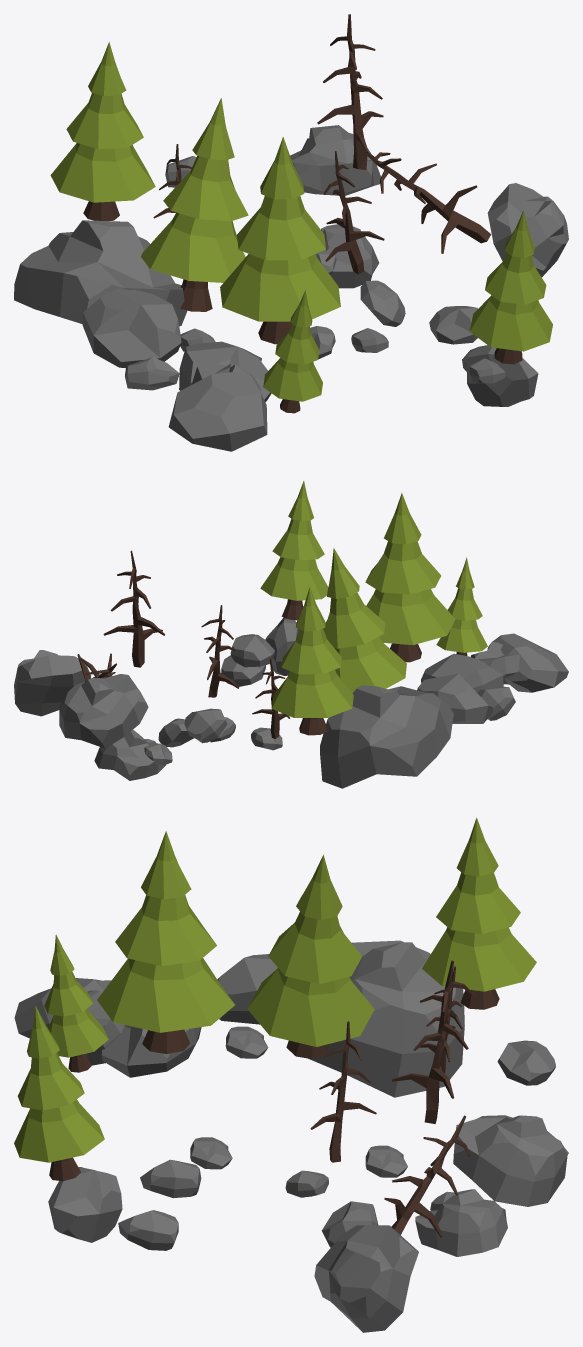
File: castleGrounds2.glb
3 views of the same model, one above another, from view 1: azimuth 30°, elevation 25°; view 2: azimuth 150°, elevation 25°; view 3: azimuth 270°, elevation 25° (orthographic). The views are drawn at different scales.
Visible parts, largest first — view 1: Tree.002, Tree.001, Rock.042, Tree.004, Tree.010, Rock.059, Rock.020, Rock.044, Rock.058, Tree.003, Rock.050, Dead Tree.011 (+11 smaller); view 2: Rock.042, Tree.002, Tree.004, Tree.001, Rock.058, Tree.010, Rock.044, Rock.059, Tree.003, Rock.020, Rock.045, Rock.056 (+13 smaller); view 3: Tree.002, Tree.001, Rock.042, Tree.004, Rock.058, Tree.010, Rock.044, Tree.003, Rock.045, Rock.050, Rock.056, Dead Tree.008 (+14 smaller).
Boxes of the visible parts, x1=… form: Tree.002: x1=220, y1=137, x2=340, y2=344; Tree.001: x1=141, y1=98, x2=248, y2=311; Rock.042: x1=14, y1=220, x2=187, y2=326; Tree.004: x1=50, y1=42, x2=155, y2=220; Tree.010: x1=470, y1=210, x2=552, y2=364; Rock.059: x1=168, y1=371, x2=267, y2=451; Rock.020: x1=82, y1=289, x2=181, y2=367; Rock.044: x1=487, y1=183, x2=568, y2=277; Rock.058: x1=290, y1=125, x2=380, y2=195; Tree.003: x1=263, y1=290, x2=322, y2=413; Rock.050: x1=467, y1=345, x2=538, y2=406; Dead Tree.011: x1=367, y1=152, x2=490, y2=253; Rock.042: x1=320, y1=685, x2=453, y2=788; Tree.002: x1=365, y1=493, x2=455, y2=662; Tree.004: x1=272, y1=587, x2=353, y2=735; Tree.001: x1=323, y1=548, x2=406, y2=693; Rock.058: x1=59, y1=674, x2=148, y2=748; Tree.010: x1=260, y1=481, x2=328, y2=620; Rock.044: x1=14, y1=650, x2=90, y2=716; Rock.059: x1=487, y1=633, x2=568, y2=692; Tree.003: x1=436, y1=557, x2=487, y2=655; Rock.020: x1=417, y1=673, x2=493, y2=723; Rock.045: x1=94, y1=730, x2=165, y2=780; Rock.056: x1=421, y1=653, x2=503, y2=692; Tree.002: x1=97, y1=831, x2=234, y2=1053; Tree.001: x1=247, y1=854, x2=374, y2=1059; Rock.042: x1=308, y1=940, x2=464, y2=1097; Tree.004: x1=422, y1=817, x2=536, y2=1009; Rock.058: x1=453, y1=1115, x2=568, y2=1206; Tree.010: x1=14, y1=1005, x2=104, y2=1181; Rock.044: x1=314, y1=1225, x2=418, y2=1332; Tree.003: x1=44, y1=934, x2=108, y2=1072; Rock.045: x1=415, y1=1189, x2=507, y2=1256; Rock.050: x1=48, y1=1167, x2=122, y2=1242; Rock.056: x1=101, y1=1025, x2=201, y2=1077; Dead Tree.008: x1=392, y1=960, x2=475, y2=1123.
Size of the model in its own units: 36.39 by 19.44 by 30.66.
